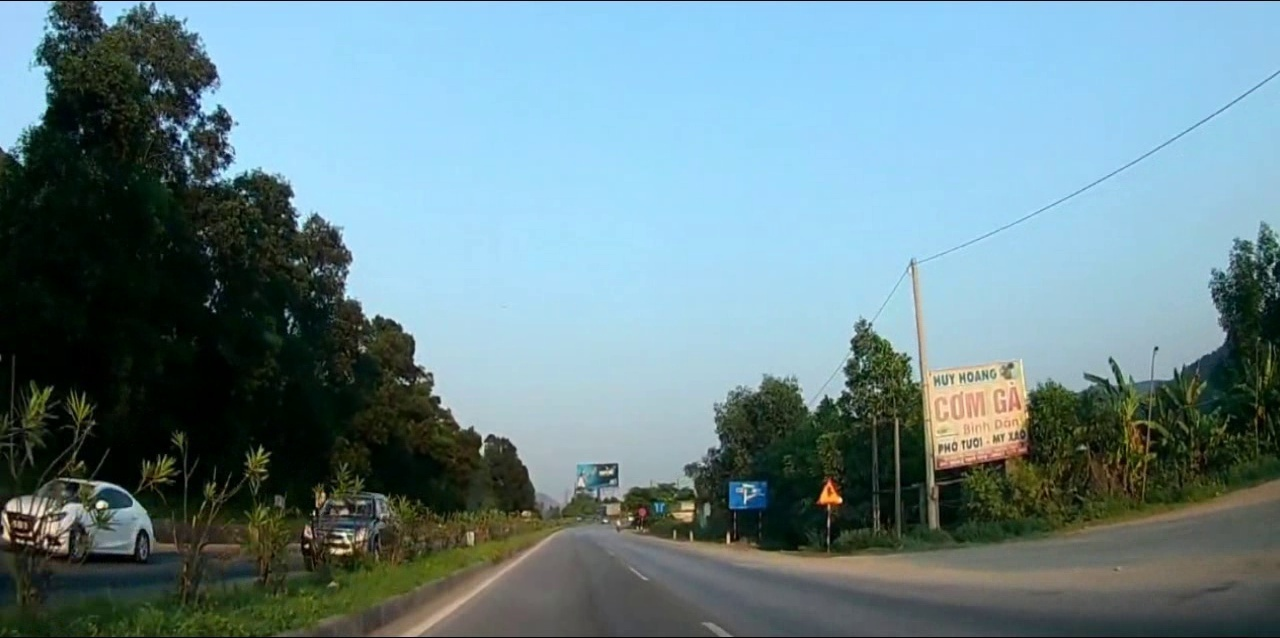Giao nhau voi duong khong uu tien: (816, 475, 840, 505)
